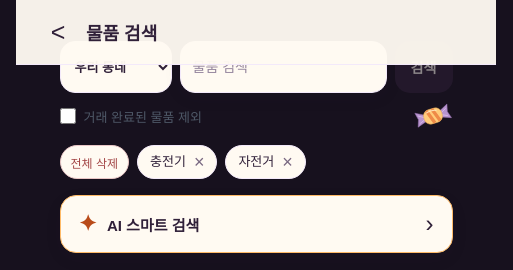
Test: x를 누르면 해당 검색 기록만 삭제한다
This screenshot has width=513, height=270.
Expected: the text "충전기" is shown, [150,153,186,171]
Click the button "×" next to "충전기" at (199, 162), box [194,153,204,171]
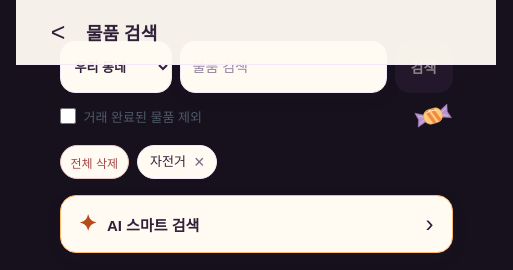
Expected: the text "자전거" is shown, [150,153,186,171]
Now the text "충전기" is gone
